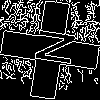N: (25, 25, 76, 68)
